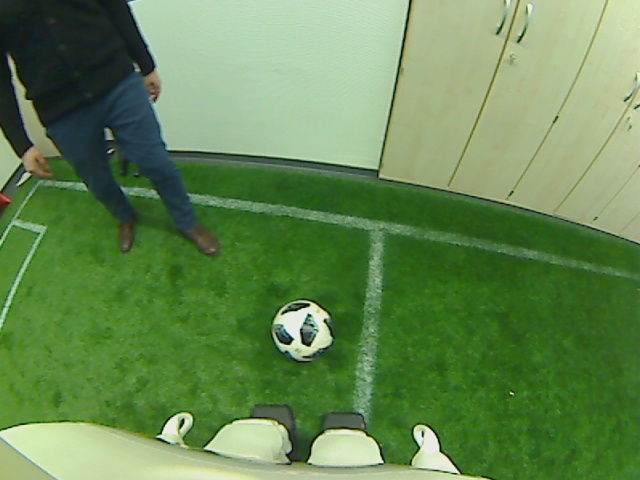ball: (268, 297, 335, 362)
